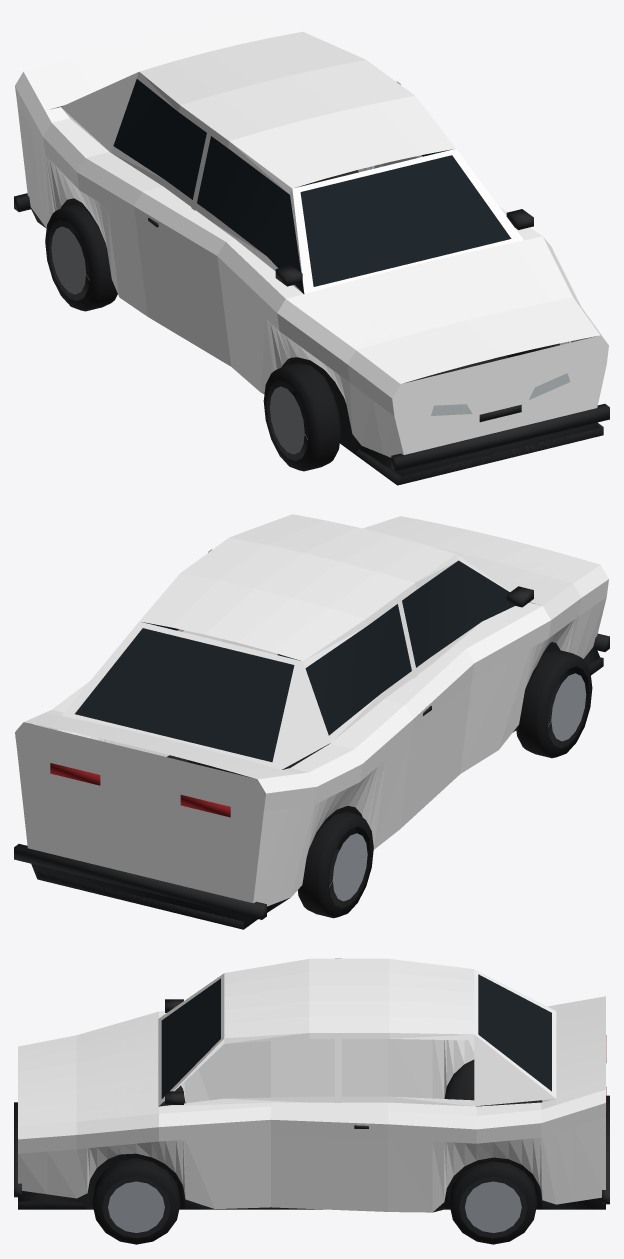
Rendered from ridgeway_casulo.glb.
The picture shows the model from 3 angles, top to bottom: view 1: azimuth 30°, elevation 25°; view 2: azimuth 150°, elevation 25°; view 3: azimuth 270°, elevation 25°; orthographic projection. The views are drawn at different scales.
Visible parts, largest first — view 1: Body_Paint, Body_Details, Mount_FrontLeft_Wheel_Details, Mount_RearLeft_Wheel_Details; view 2: Body_Paint, Body_Details, Mount_FrontLeft_Wheel_Details, Mount_RearLeft_Wheel_Details; view 3: Body_Paint, Body_Details, Mount_FrontRight_Wheel_Details, Mount_RearRight_Wheel_Details.
Part boxes in pixels (x1,y1,x2,y2): Body_Paint: (15, 14, 608, 457); Body_Details: (14, 79, 609, 485); Mount_FrontLeft_Wheel_Details: (263, 363, 340, 471); Mount_RearLeft_Wheel_Details: (45, 204, 117, 311); Body_Paint: (15, 514, 608, 906); Body_Details: (14, 560, 609, 929); Mount_FrontLeft_Wheel_Details: (516, 649, 592, 758); Mount_RearLeft_Wheel_Details: (297, 811, 373, 918); Body_Paint: (18, 958, 605, 1212); Body_Details: (14, 974, 609, 1212); Mount_FrontRight_Wheel_Details: (92, 1158, 180, 1244); Mount_RearRight_Wheel_Details: (449, 1161, 537, 1244).
Size of the model in its own units: 1.84 by 1.49 by 4.07.
Materials: 2 (1 with a texture image).
